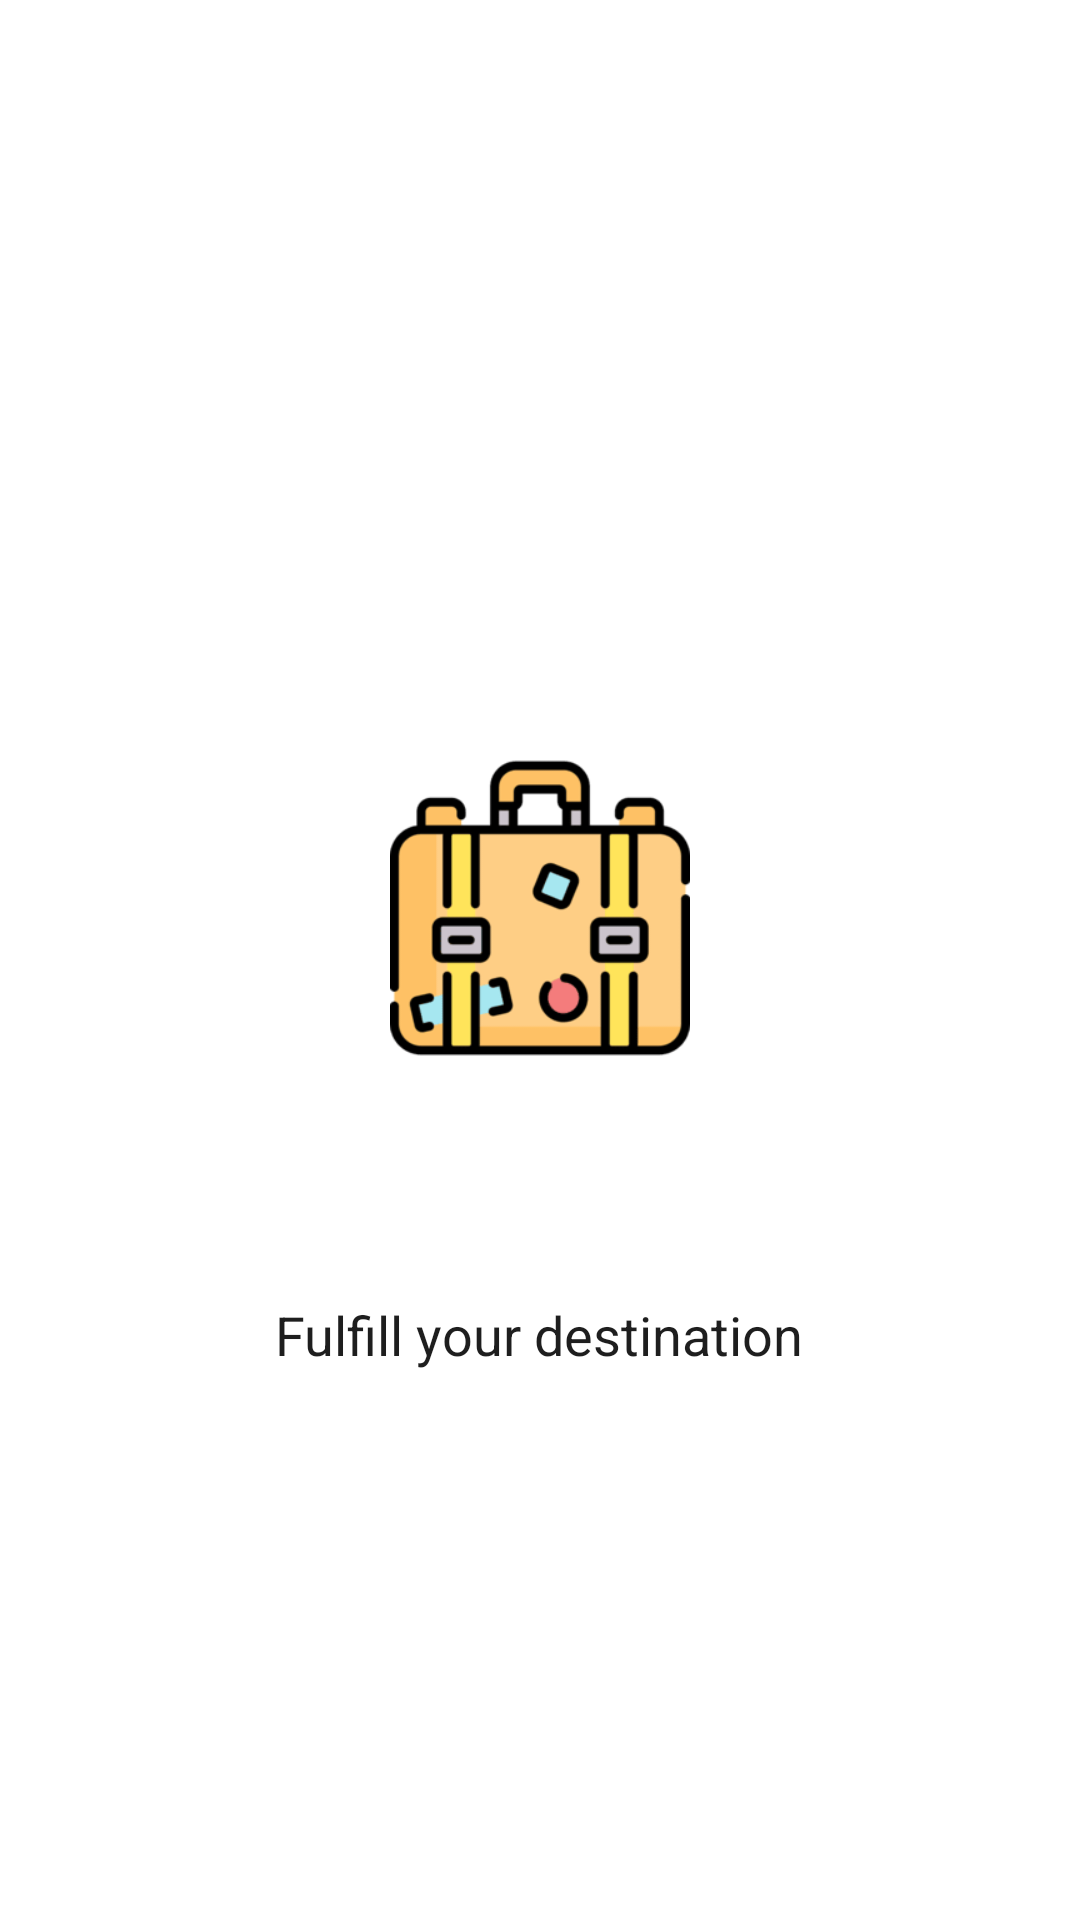

Locate icon controls on the screen. Image size 1080px x 1920px, boxes as (x1, y1, x2, y2).
baggage: (390, 760, 690, 1056)
